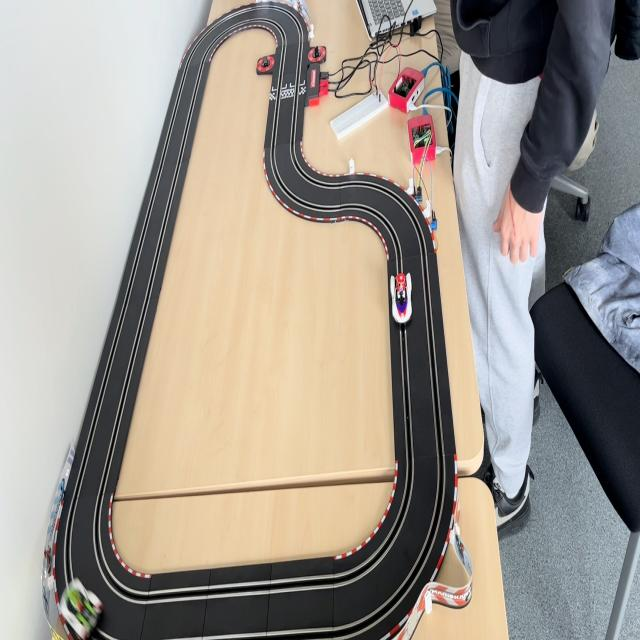mario: (388, 269, 413, 330)
yoshi: (60, 575, 105, 639)
